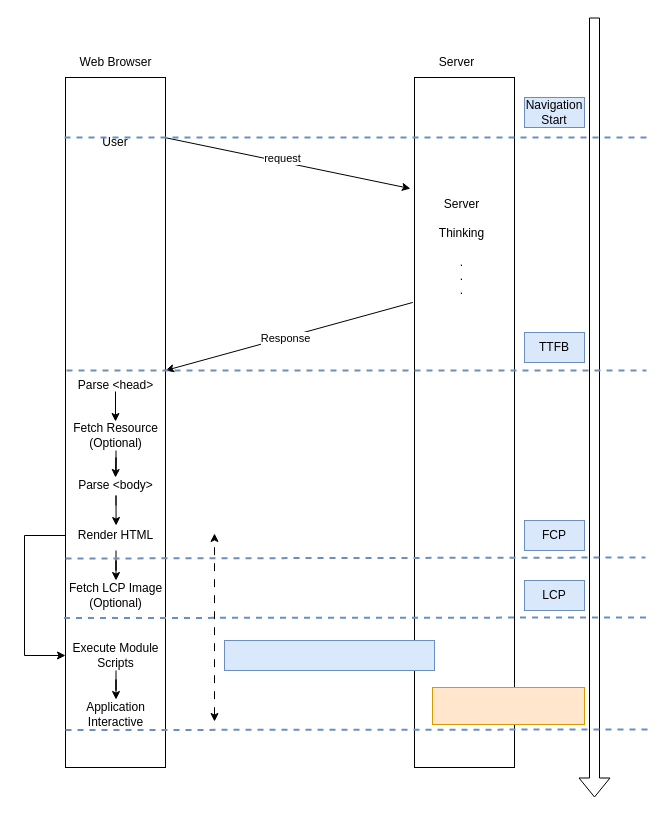
This 667x814 diagram has some shape labels left out. Here are the shapes that lost their labels. From the top down, the centre of each, then its label:
At point (329, 655): "TBT = Timing - LongTaskNum * 50ms".
At point (508, 705): "DOMContentLoaded".
